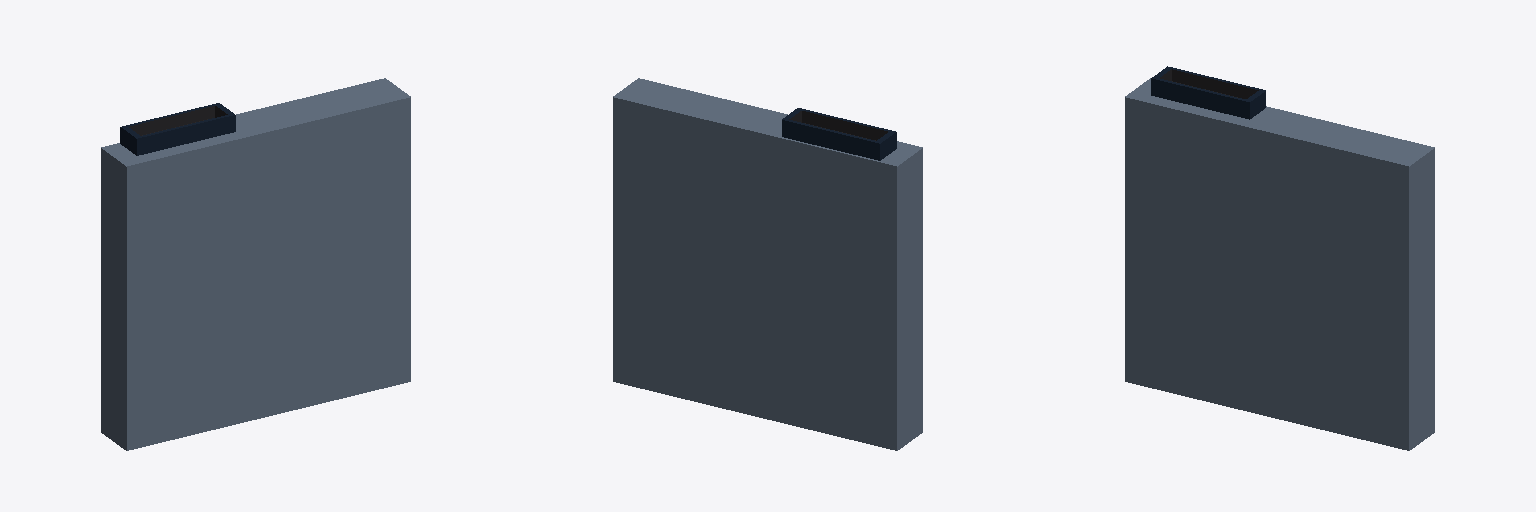
The picture shows the model from 3 angles: view 1: azimuth 30°, elevation 25°; view 2: azimuth 150°, elevation 25°; view 3: azimuth 330°, elevation 25°; orthographic projection.
Parts seen in each view (by area): view 1: SSD_Cube.001; view 2: SSD_Cube.001; view 3: SSD_Cube.001.
Boxes of the visible parts, box(x1,y1,x2,y2) form: SSD_Cube.001: box(101, 78, 410, 450); SSD_Cube.001: box(613, 78, 922, 450); SSD_Cube.001: box(1125, 66, 1434, 450).
Size of the model in its own units: 1.44 by 1.46 by 0.2282.
Materials: 1 (1 with a texture image).